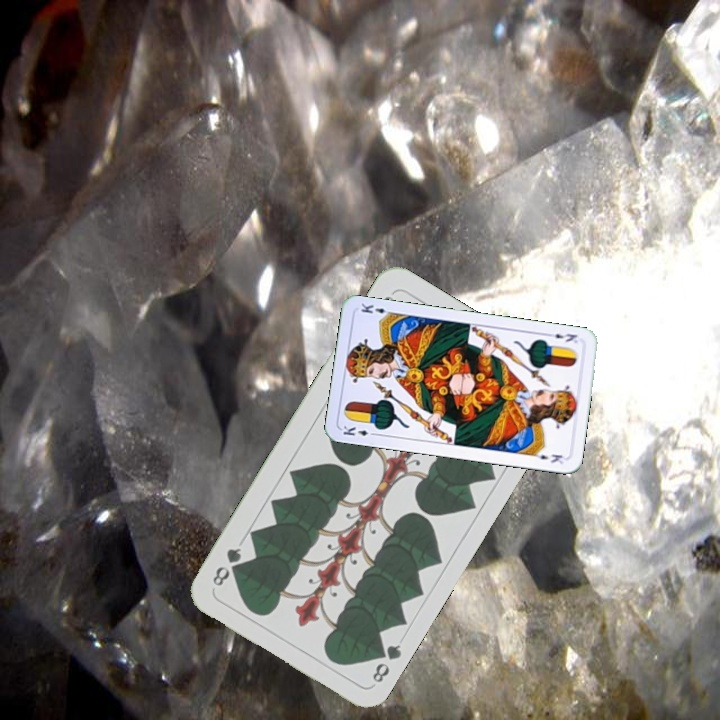EK: (339, 422, 379, 439), (543, 329, 580, 345)
G8: (368, 640, 404, 686)
